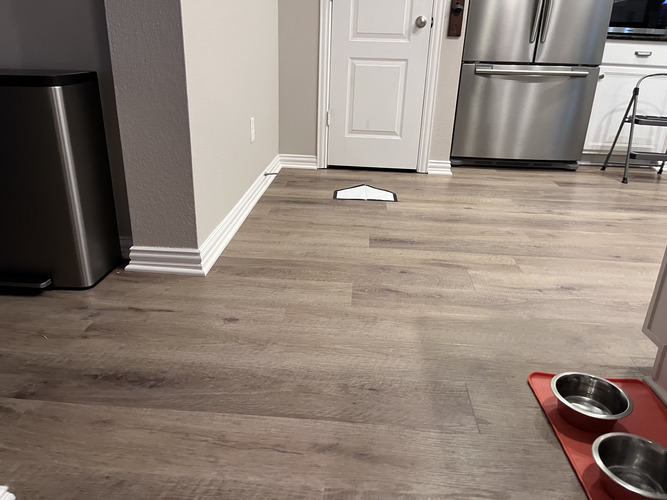homeplate: (331, 183, 397, 202)
